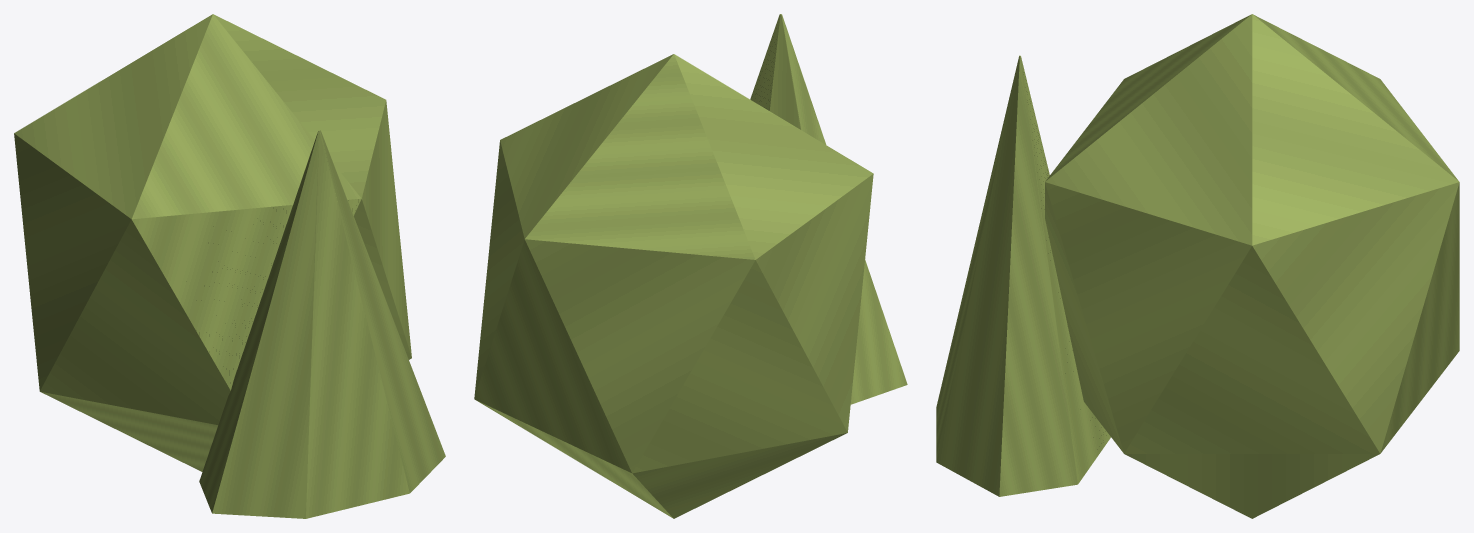
Rendered from rapid.glb.
The picture shows the model from 3 angles, left to right: view 1: azimuth 30°, elevation 25°; view 2: azimuth 150°, elevation 25°; view 3: azimuth 270°, elevation 25°; orthographic projection. The views are drawn at different scales.
Visible parts, largest first — view 1: gear_rapid; view 2: gear_rapid; view 3: gear_rapid.
Part boxes in pixels (bbox=[...]): gear_rapid: bbox=[14, 14, 445, 518]; gear_rapid: bbox=[474, 14, 907, 518]; gear_rapid: bbox=[936, 14, 1459, 518].
Size of the model in its own units: 0.1878 by 0.24 by 0.2254.
Materials: 1 (1 with a texture image).
